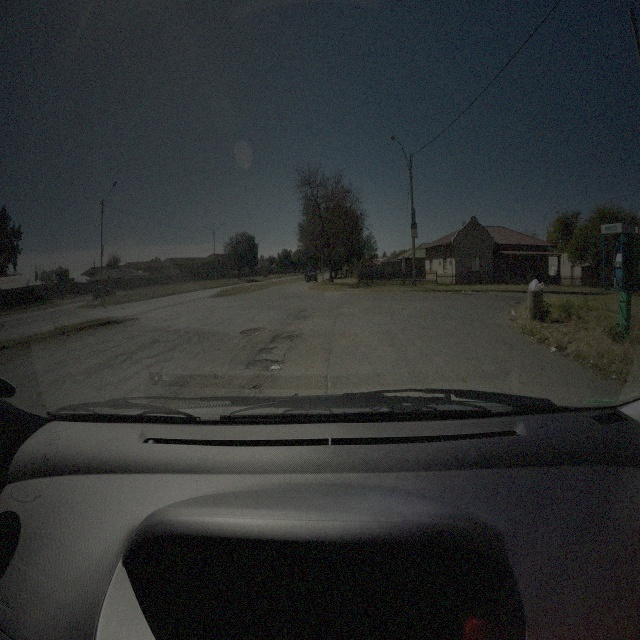pothole: (245, 359, 281, 374), (240, 324, 271, 340), (274, 330, 298, 343), (258, 344, 279, 356)
